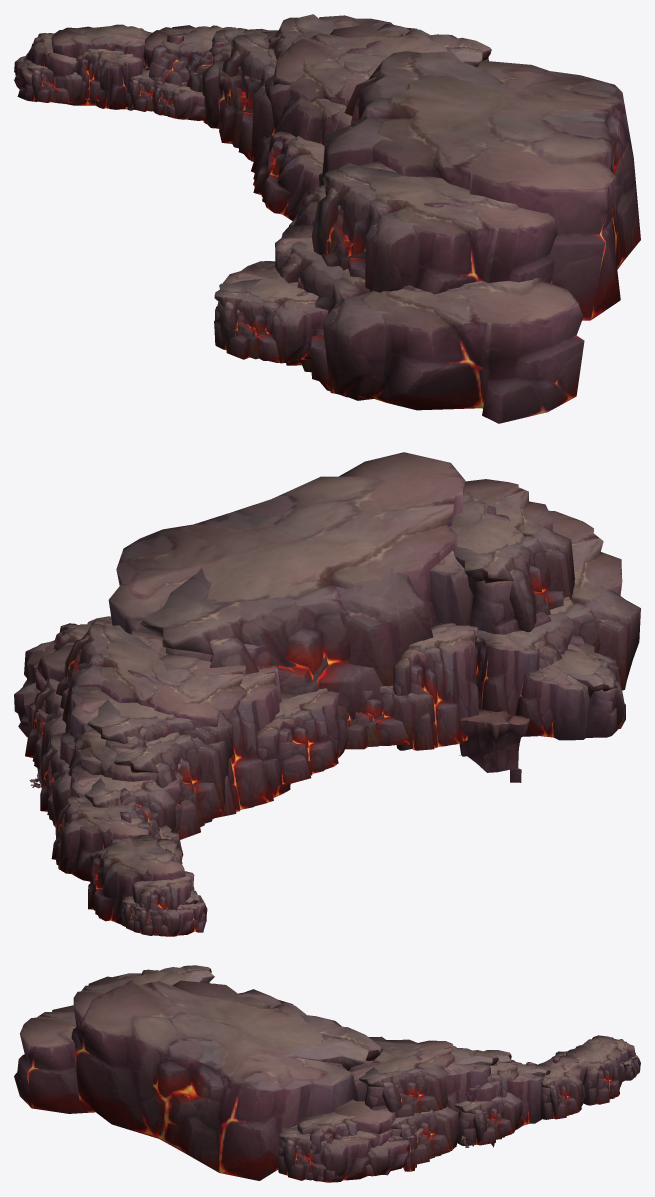
Rendered from yanshi11_1.fbx.
3 renders of one model, top to bottom at view 1: azimuth 30°, elevation 25°; view 2: azimuth 150°, elevation 25°; view 3: azimuth 270°, elevation 25°, orthographic. The views are drawn at different scales.
Visible parts, largest first — view 1: yanshi11_1; view 2: yanshi11_1; view 3: yanshi11_1.
Boxes of the visible parts, left/top/right/bottom form: yanshi11_1: left=14, top=14, right=640, bottom=423; yanshi11_1: left=14, top=452, right=640, bottom=936; yanshi11_1: left=14, top=965, right=640, bottom=1182.
Bounding box in the file's own units: 6966 × 2640 × 11327.
